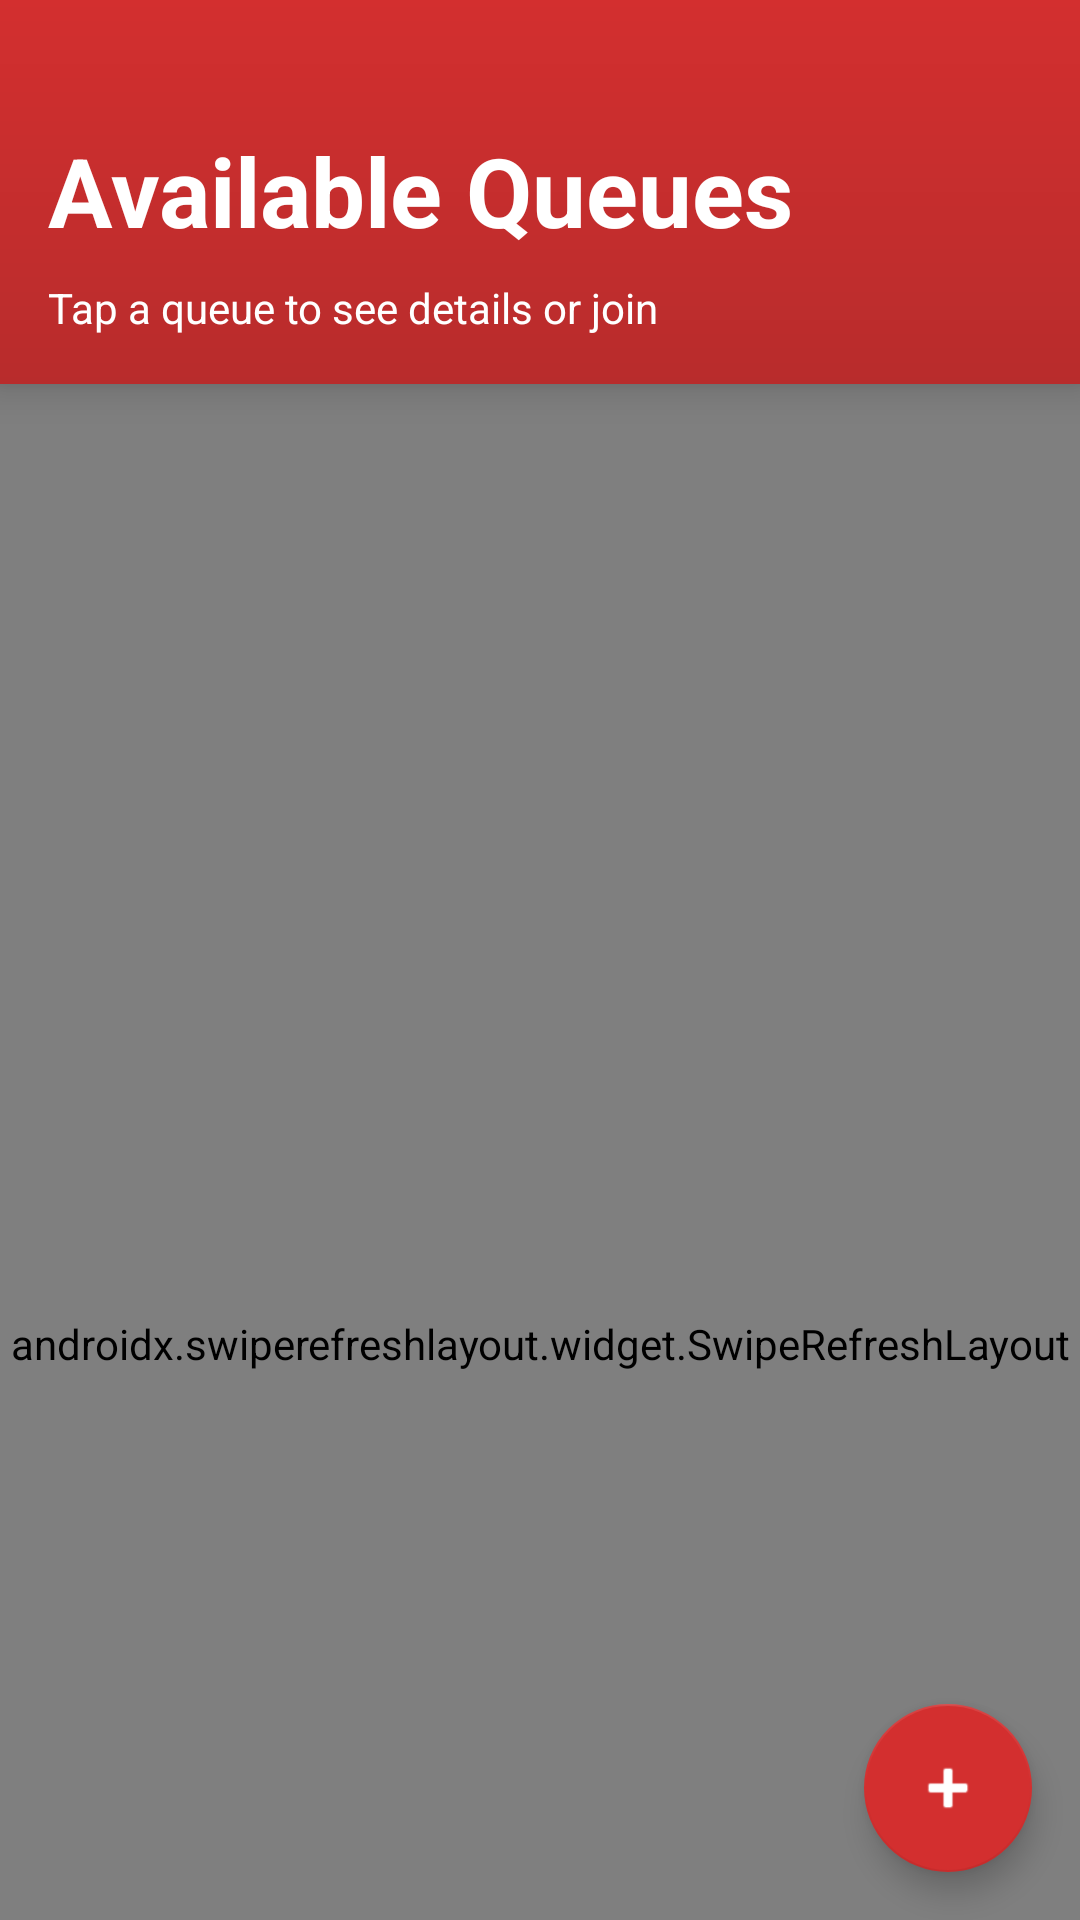

Screen size 1080 x 1920. Icon name, then its center in pixels as point (x, y):
Create a Queue: point (948, 1788)
